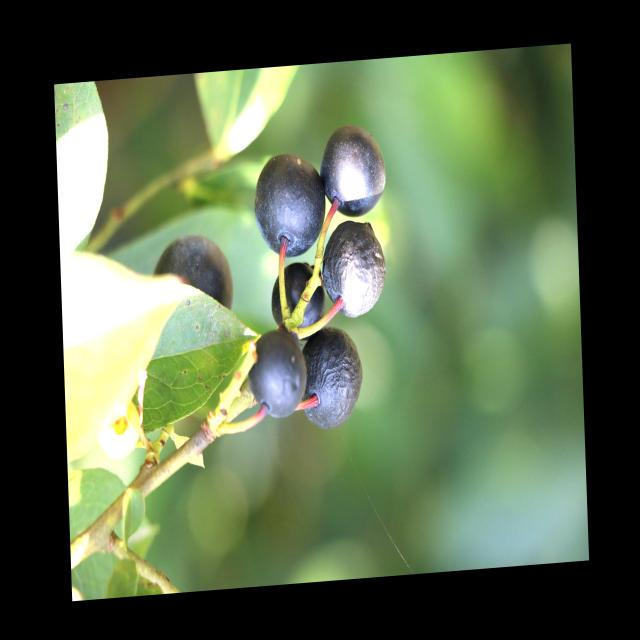blueberry: (248, 148, 328, 264), (146, 230, 238, 330), (314, 212, 393, 326), (293, 323, 367, 437), (239, 319, 312, 427), (315, 121, 392, 223), (266, 256, 332, 346)
blueberry-unripe: (97, 399, 142, 461)
